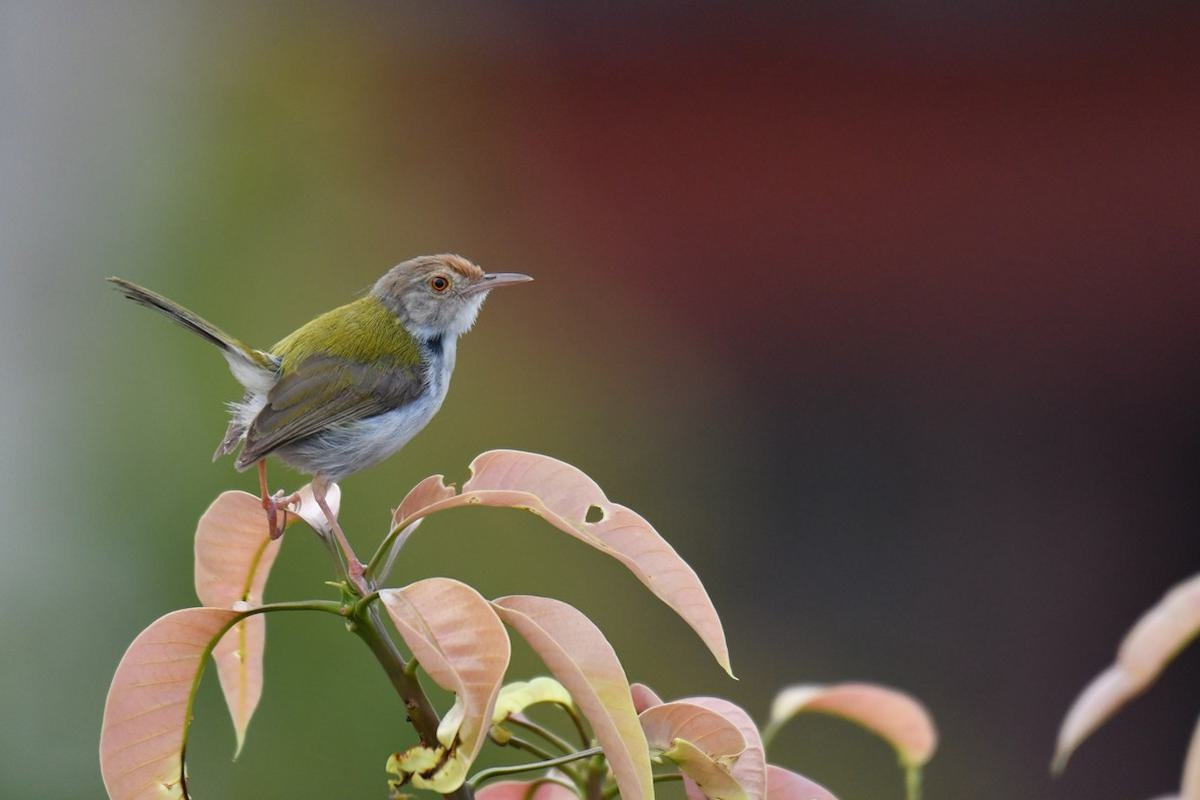tailorbird: (133, 210, 555, 532)
